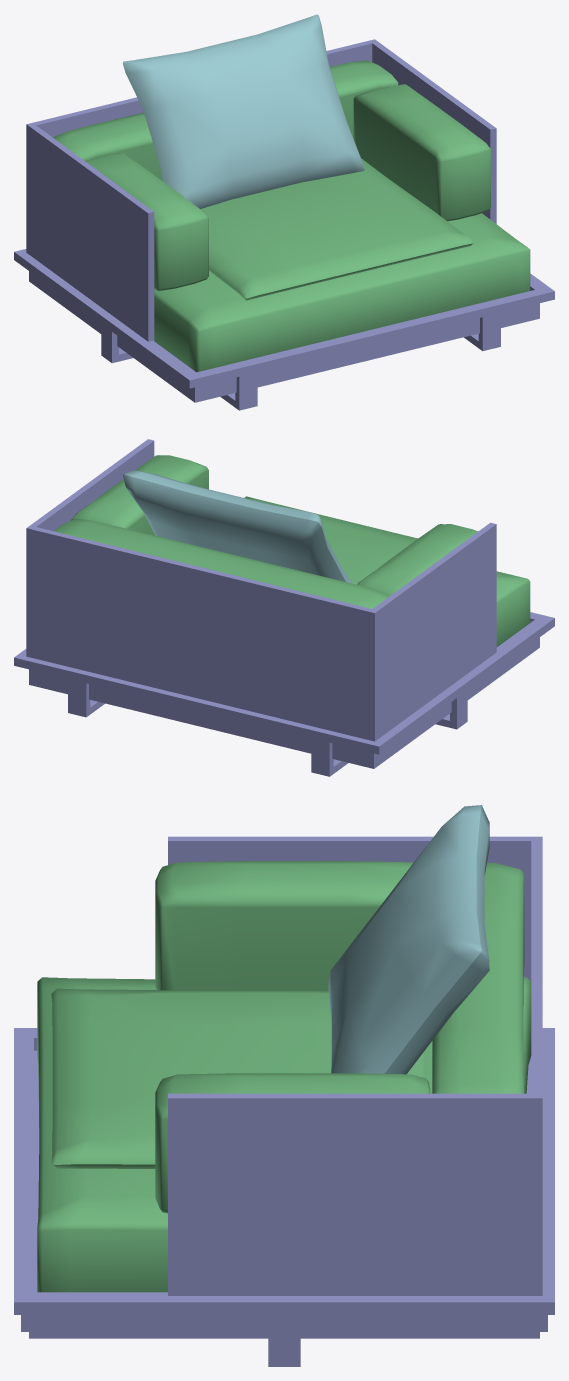
Rendered from DBSF02.FBX.
3 renders of one model, top to bottom at view 1: azimuth 30°, elevation 25°; view 2: azimuth 150°, elevation 25°; view 3: azimuth 270°, elevation 25°, orthographic. The views are drawn at different scales.
Visible parts, largest first — view 1: DBSF02; view 2: DBSF02; view 3: DBSF02.
Part boxes in pixels (x1,y1,x2,y2): DBSF02: (14, 14, 554, 410); DBSF02: (14, 439, 554, 776); DBSF02: (14, 805, 554, 1366).
Size of the model in its own units: 120 by 100 by 73.
